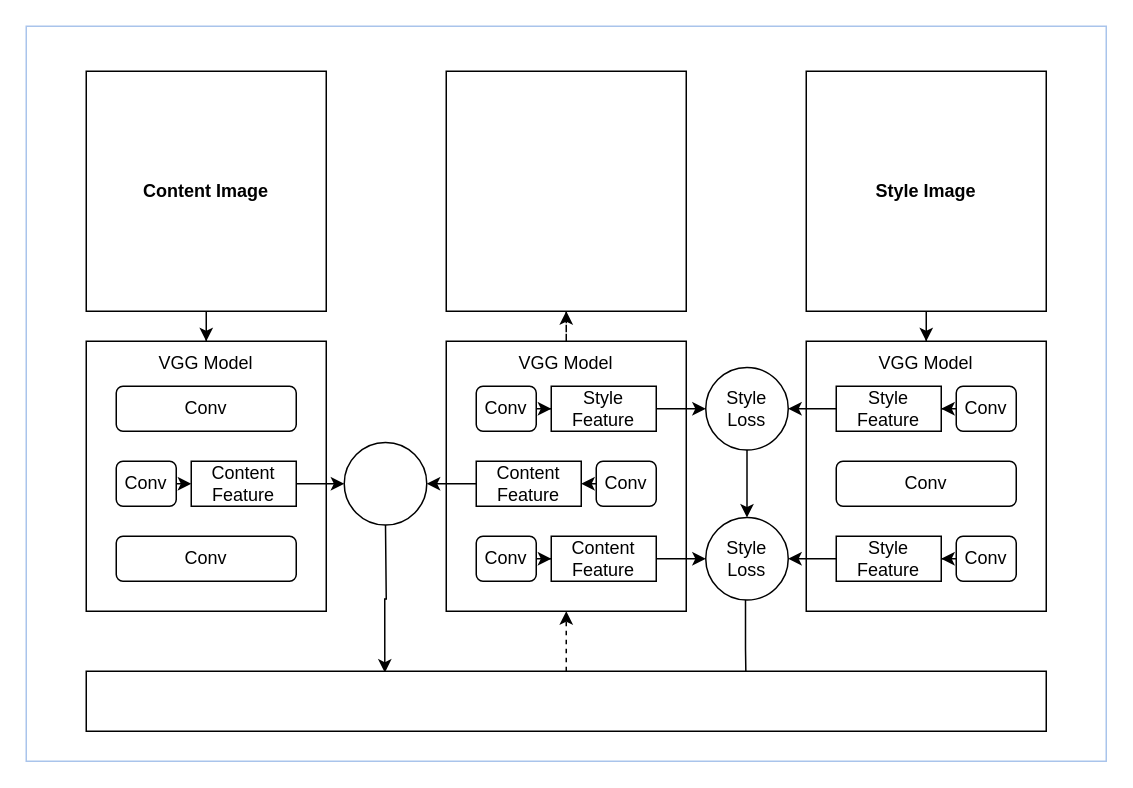
This 1133x788 diagram has some shape labels left out. Here are the shapes that lost their labels. From the top down, the centre of each, then its label:
At pixel 565 190: "Mixed Image".
At pixel 385 483: "Content Loss".
At pixel 565 700: "Optimizer".
